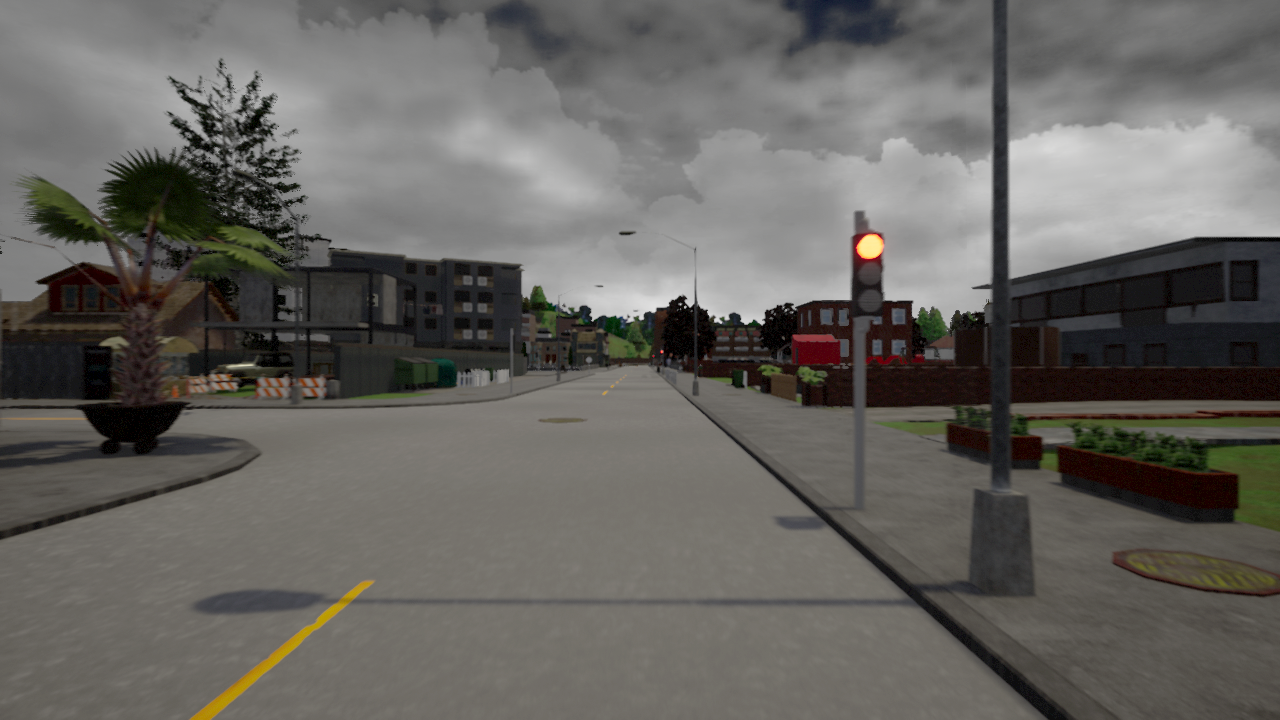red: (850, 230, 884, 319)
